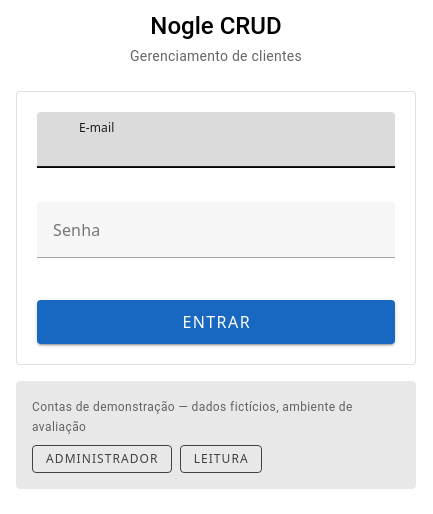
autenticação › exibe o aviso de bloqueio por excesso de tentativas
Type "admin@nogle.test" into the field labelled "E-mail" at (234, 140), box 73,112 -> 395,168
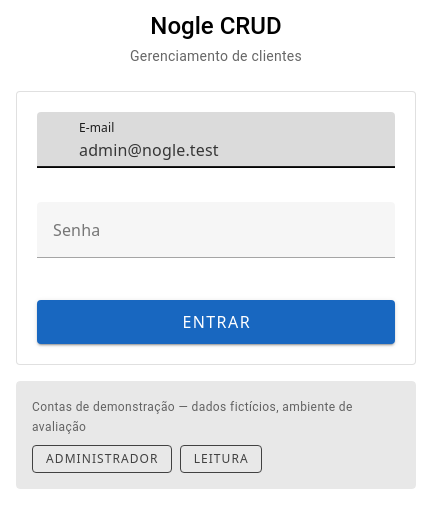
Type "senha123" into the password field labelled "Senha" at (198, 230), box 37,202 -> 359,258
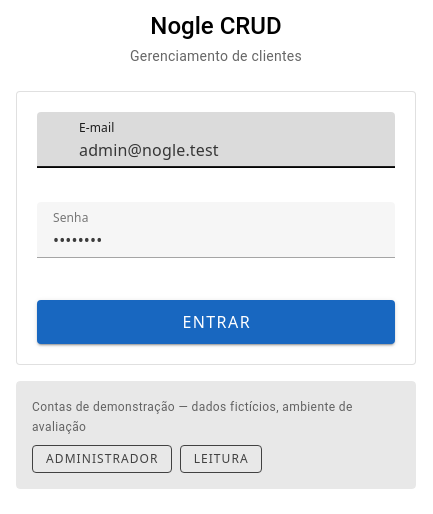
Click the button "Entrar" at (216, 322), box 37,300 -> 395,344
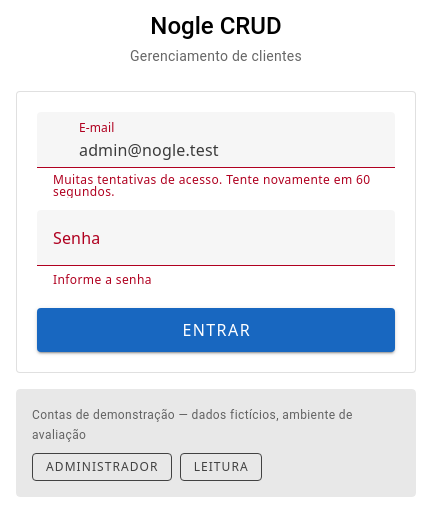
Result: the text "Muitas tentativas de acesso" is shown at 53,171 -> 371,198
